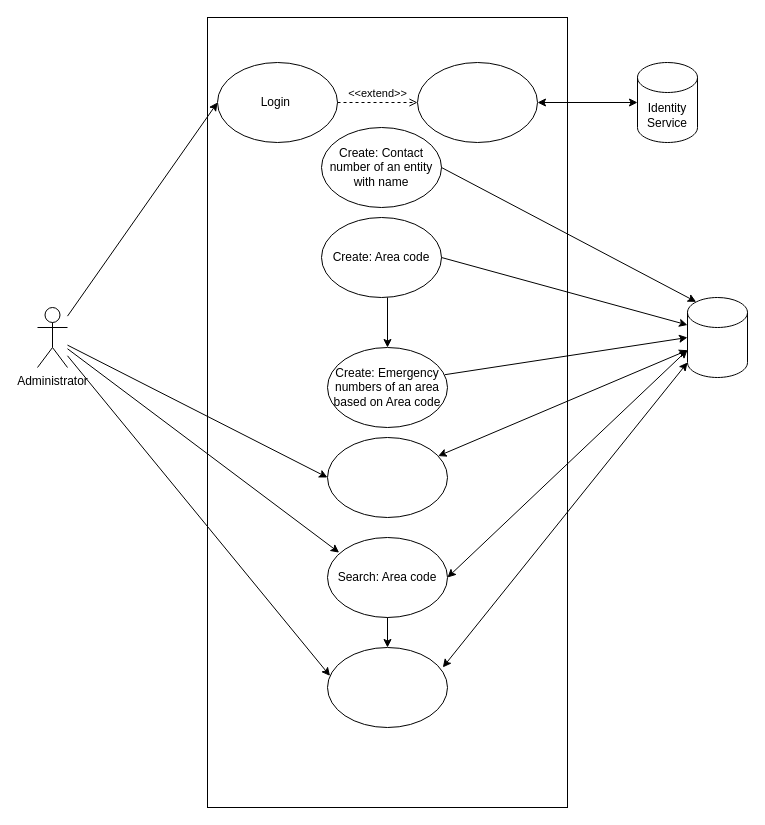
The diagram is 765 pixels wide and 825 high, and some of its shapes have lost their labels. Here are the shapes that lost their labels. From the top down, the centre of each, then its label:
(x=477, y=102): Invalid Credentials
(x=717, y=337): Database
(x=387, y=477): Search: Contact number of an entity with name
(x=387, y=687): Search: Emergency numbers of an area based on Area code
